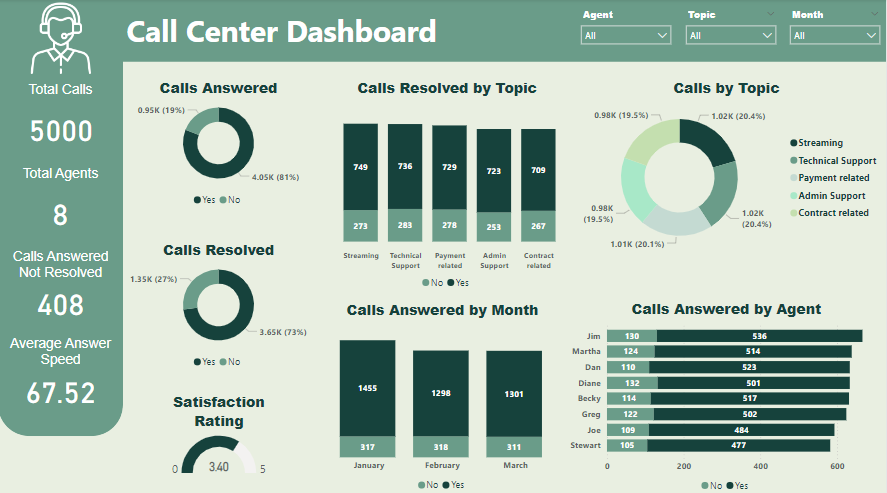

What the dashboard file says about the page in this screenshot:
{"tool":"powerbi","page":{"name":"Dashboard","canvas":[1280,720],"ordinal":0},"visuals":[{"type":"shape","box":[0,45,180,585],"z":0},{"type":"card","title":"Total Agents","fields":{"Values":["Sheet1.Agent"]},"box":[0,234.2,180,120],"z":1000},{"type":"card","title":"Total Calls","fields":{"Values":["Sheet1.Call Id"]},"box":[0,114.2,180,120],"z":2000},{"type":"gauge","title":"Satisfaction Rating","fields":{"Y":["Sheet1.Satisfaction rating"],"MaxValue":["Sheet1.Maximum"],"MinValue":["Sheet1.Minimum"]},"box":[240,560,155,140],"z":3000},{"type":"card","title":"Average Answer Speed","fields":{"Values":["Sheet1.Speed of answer in seconds"]},"box":[0,479.2,180,121.7],"z":4000},{"type":"columnChart","title":"Calls Answered by Month","fields":{"Category":["Sheet1.Date.Variation.Date Hierarchy.Month","Sheet1.Date.Variation.Date Hierarchy.Day"],"Y":["Sheet1.Call Id"],"Series":["Sheet1.Answered (Y/N)"]},"box":[445,428.3,390,291.7],"z":5000},{"type":"donutChart","title":"Calls Answered","fields":{"Category":["Sheet1.Answered (Y/N)"],"Y":["Sheet1.Call Id"]},"box":[180,108.3,275,200],"z":6000},{"type":"donutChart","title":"Calls Resolved","fields":{"Y":["Sheet1.Call Id"],"Category":["Sheet1.Resolved"]},"box":[180,341.7,275,200],"z":7000},{"type":"donutChart","title":"Calls by Topic","fields":{"Y":["Sheet1.Call Id"],"Category":["Sheet1.Topic"]},"box":[818.3,108.3,461.7,270],"z":8000},{"type":"barChart","title":"Calls Answered by Agent","fields":{"Category":["Sheet1.Agent"],"Y":["Sheet1.Call Id"],"Series":["Sheet1.Answered (Y/N)"]},"box":[818.3,426.7,461.7,293.3],"z":9000},{"type":"shape","box":[0,0,1280,90],"z":10000},{"type":"textbox","box":[180,11.7,696.7,65],"z":11000},{"type":"slicer","fields":{"Values":["Sheet1.Topic"]},"box":[980,6.7,150,75],"z":12000},{"type":"slicer","fields":{"Values":["Sheet1.Agent"]},"box":[830,6.7,150,75],"z":13000},{"type":"slicer","fields":{"Values":["Sheet1.Date.Variation.Date Hierarchy.Month"]},"box":[1130,6.7,150,75],"z":14000},{"type":"columnChart","title":"Calls Resolved by Topic","fields":{"Category":["Sheet1.Topic"],"Y":["Sheet1.Call Id"],"Series":["Call_Center.Resolved (Yes/No)"]},"box":[457.9,108,377.3,319.7],"z":15000},{"type":"card","title":"Calls Answered Not Resolved","fields":{"Values":["Sheet1.Calls Answered (Yes/No)"]},"box":[0,354.2,180,120],"z":16000},{"type":"image","box":[0,0,180,113.3],"z":17000}]}

Visuals, with their boxes in screenshot pixels (x1, y1, x2, y2), scaled from the page's 1280x720 canvas onto the 887x493 screenshot:
shape: box=[0, 31, 125, 431]
"Total Agents" card: box=[0, 160, 125, 243]
"Total Calls" card: box=[0, 78, 125, 160]
"Satisfaction Rating" gauge: box=[166, 383, 274, 479]
"Average Answer Speed" card: box=[0, 328, 125, 411]
"Calls Answered by Month" columnChart: box=[308, 293, 579, 492]
"Calls Answered" donutChart: box=[125, 74, 315, 211]
"Calls Resolved" donutChart: box=[125, 234, 315, 371]
"Calls by Topic" donutChart: box=[567, 74, 886, 259]
"Calls Answered by Agent" barChart: box=[567, 292, 886, 492]
shape: box=[0, 0, 886, 62]
textbox: box=[125, 8, 608, 53]
slicer - Sheet1.Topic: box=[679, 5, 783, 56]
slicer - Sheet1.Agent: box=[575, 5, 679, 56]
slicer - Sheet1.Date.Variation.Date Hierarchy.Month: box=[783, 5, 886, 56]
"Calls Resolved by Topic" columnChart: box=[317, 74, 579, 293]
"Calls Answered Not Resolved" card: box=[0, 243, 125, 325]
image: box=[0, 0, 125, 78]
